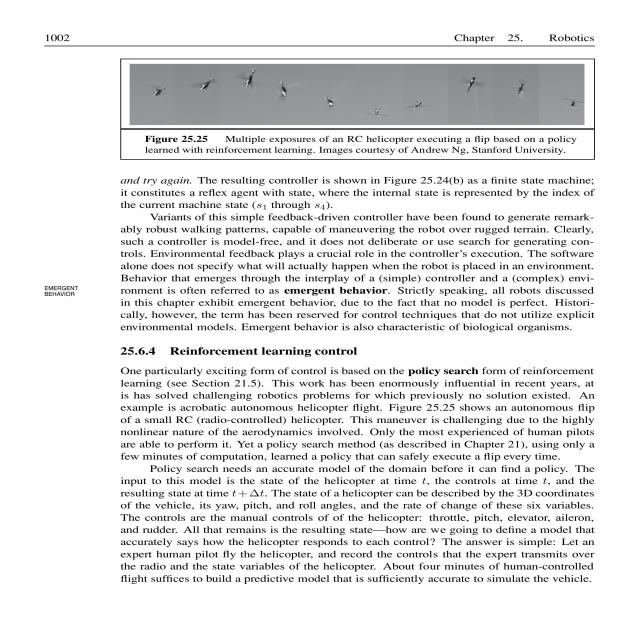diagram: (119, 57, 624, 157)
